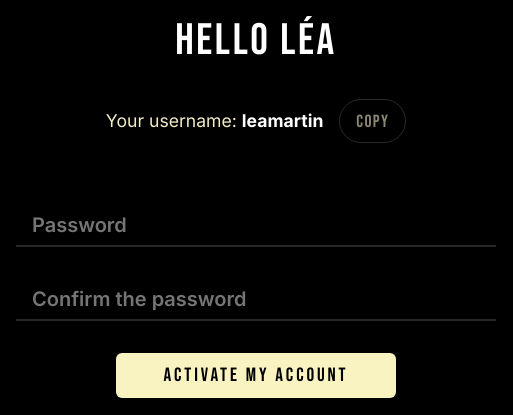
claim page › selects the username instead when the browser cannot copy
Click the button with aria-label "Copy the username" at (373,121), box [339,99,406,143]
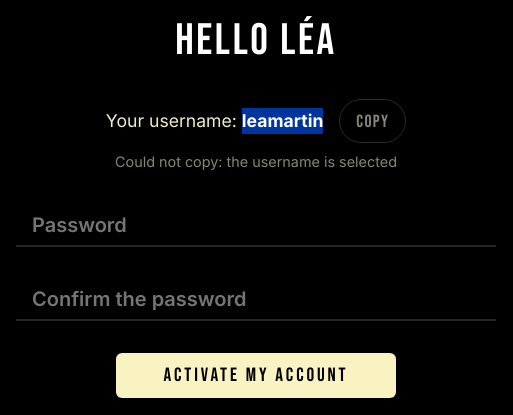
Expected: the text "leamartin" is shown, [242,110,323,131]
Expected: the message reads "Could not copy: the username is selected", [115,153,397,170]
